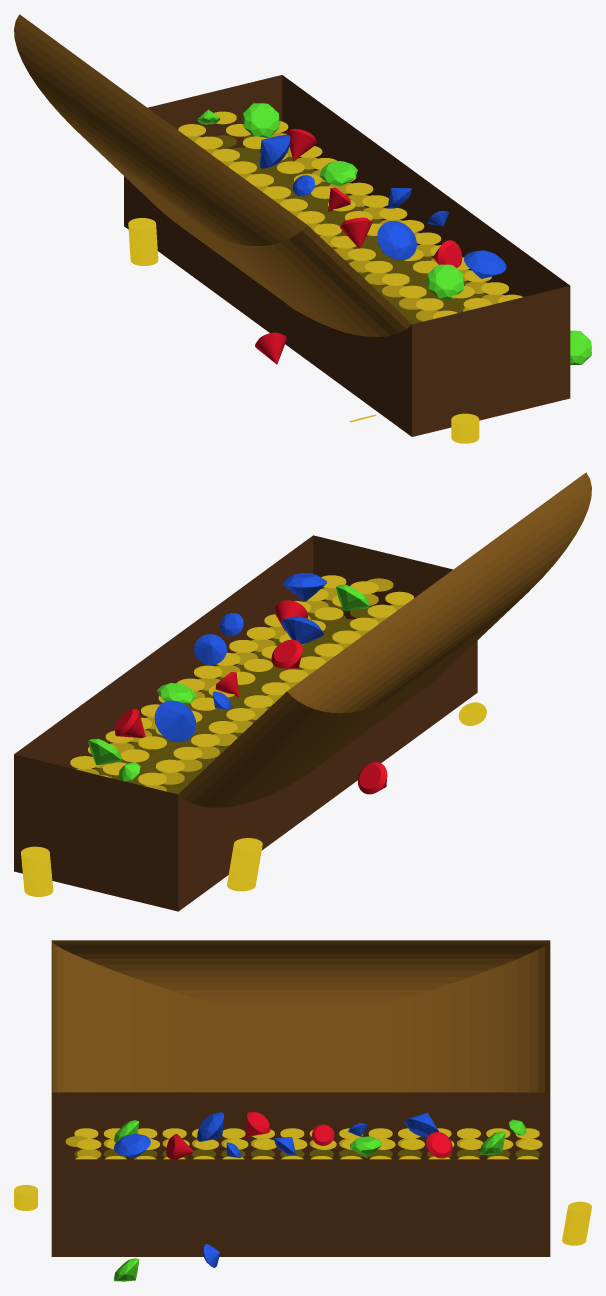
Rendered from treasure_chest.glb.
The picture shows the model from 3 angles, top to bottom: view 1: azimuth 30°, elevation 25°; view 2: azimuth 150°, elevation 25°; view 3: azimuth 270°, elevation 25°; orthographic projection. The views are drawn at different scales.
Visible parts, largest first — view 1: Cube, Cube.001, coinstack 1.023, coinstack 1.021, coinstack 1.022, coinstack 1.016, coinstack 1.020, coinstack 1.018, Cylinder.005, dobj.001, Gem.002, Gem.001 (+12 smaller); view 2: Cube, Cube.001, coinstack 1.023, coinstack 1.021, coinstack 1.022, coinstack 1.016, coinstack 1.020, coinstack 1.018, Cylinder.005, Cylinder.004, dobj.002, coinstack 1.015 (+9 smaller); view 3: Cube.001, Cube, coinstack 1.023, coinstack 1.022, coinstack 1.017, coinstack 1.021, Cylinder.004, dobj.004, dobj.001, Cylinder.003, diamond 1.003, dobj.002 (+4 smaller).
Part boxes in pixels (x1,y1,x2,y2): Cube: (124, 75, 570, 436); Cube.001: (14, 14, 411, 336); coinstack 1.023: (178, 124, 457, 318); coinstack 1.021: (274, 121, 522, 302); coinstack 1.022: (214, 111, 491, 309); coinstack 1.016: (214, 135, 462, 312); coinstack 1.020: (187, 136, 439, 321); coinstack 1.018: (266, 132, 504, 304); Cylinder.005: (128, 218, 158, 265); dobj.001: (377, 221, 416, 260); Gem.002: (243, 103, 279, 137); Gem.001: (427, 264, 464, 298); Cube: (14, 535, 477, 911); Cube.001: (178, 472, 591, 807); coinstack 1.023: (138, 591, 413, 785); coinstack 1.021: (70, 575, 346, 769); coinstack 1.022: (99, 581, 378, 778); coinstack 1.016: (121, 606, 374, 785); coinstack 1.020: (144, 604, 405, 791); coinstack 1.018: (76, 587, 337, 774); Cylinder.005: (227, 838, 262, 891); Cylinder.004: (21, 846, 53, 896); dobj.002: (154, 700, 196, 742); coinstack 1.015: (93, 600, 343, 778); Cube.001: (51, 940, 550, 1092); Cube: (51, 1092, 550, 1256); coinstack 1.023: (74, 1128, 539, 1138); coinstack 1.022: (77, 1139, 542, 1149); coinstack 1.017: (74, 1149, 539, 1157); coinstack 1.021: (75, 1155, 538, 1159); Cylinder.004: (562, 1201, 591, 1245); dobj.004: (114, 1133, 150, 1158); dobj.001: (197, 1112, 224, 1141); Cylinder.003: (14, 1185, 37, 1210); diamond 1.003: (426, 1132, 452, 1158); dobj.002: (404, 1112, 438, 1137).
Bounding box in the file's own units: 4.33 × 2.92 × 7.3.
